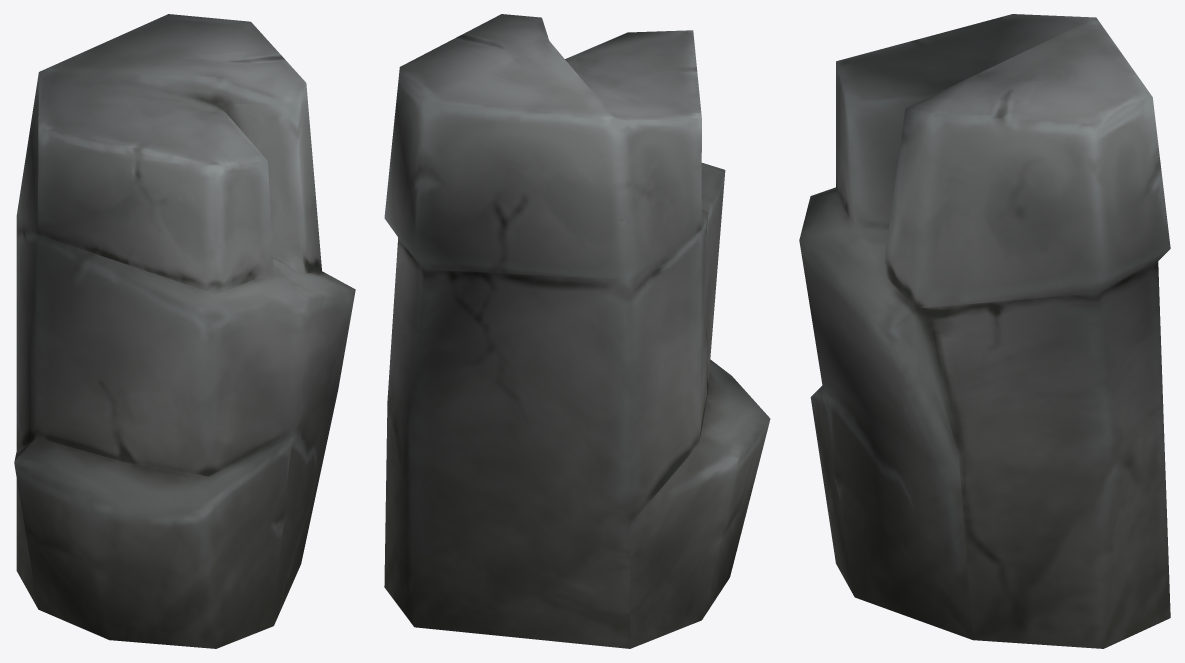
Rendered from Rock_formation3.fbx.
3 renders of one model, left to right at view 1: azimuth 30°, elevation 25°; view 2: azimuth 150°, elevation 25°; view 3: azimuth 270°, elevation 25°, orthographic. The views are drawn at different scales.
Parts seen in each view (by area): view 1: rock_lp_07; view 2: rock_lp_07; view 3: rock_lp_07.
Part boxes in pixels (x1,y1,x2,y2): rock_lp_07: [14, 14, 355, 648]; rock_lp_07: [384, 14, 770, 648]; rock_lp_07: [799, 14, 1170, 648].
Bounding box in the file's own units: 1.23 × 2 × 1.28.
